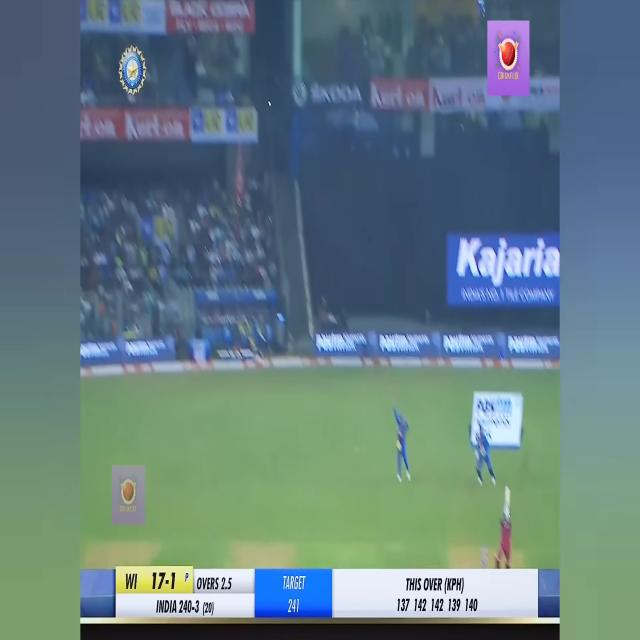partially_visible: (475, 376, 519, 420)
